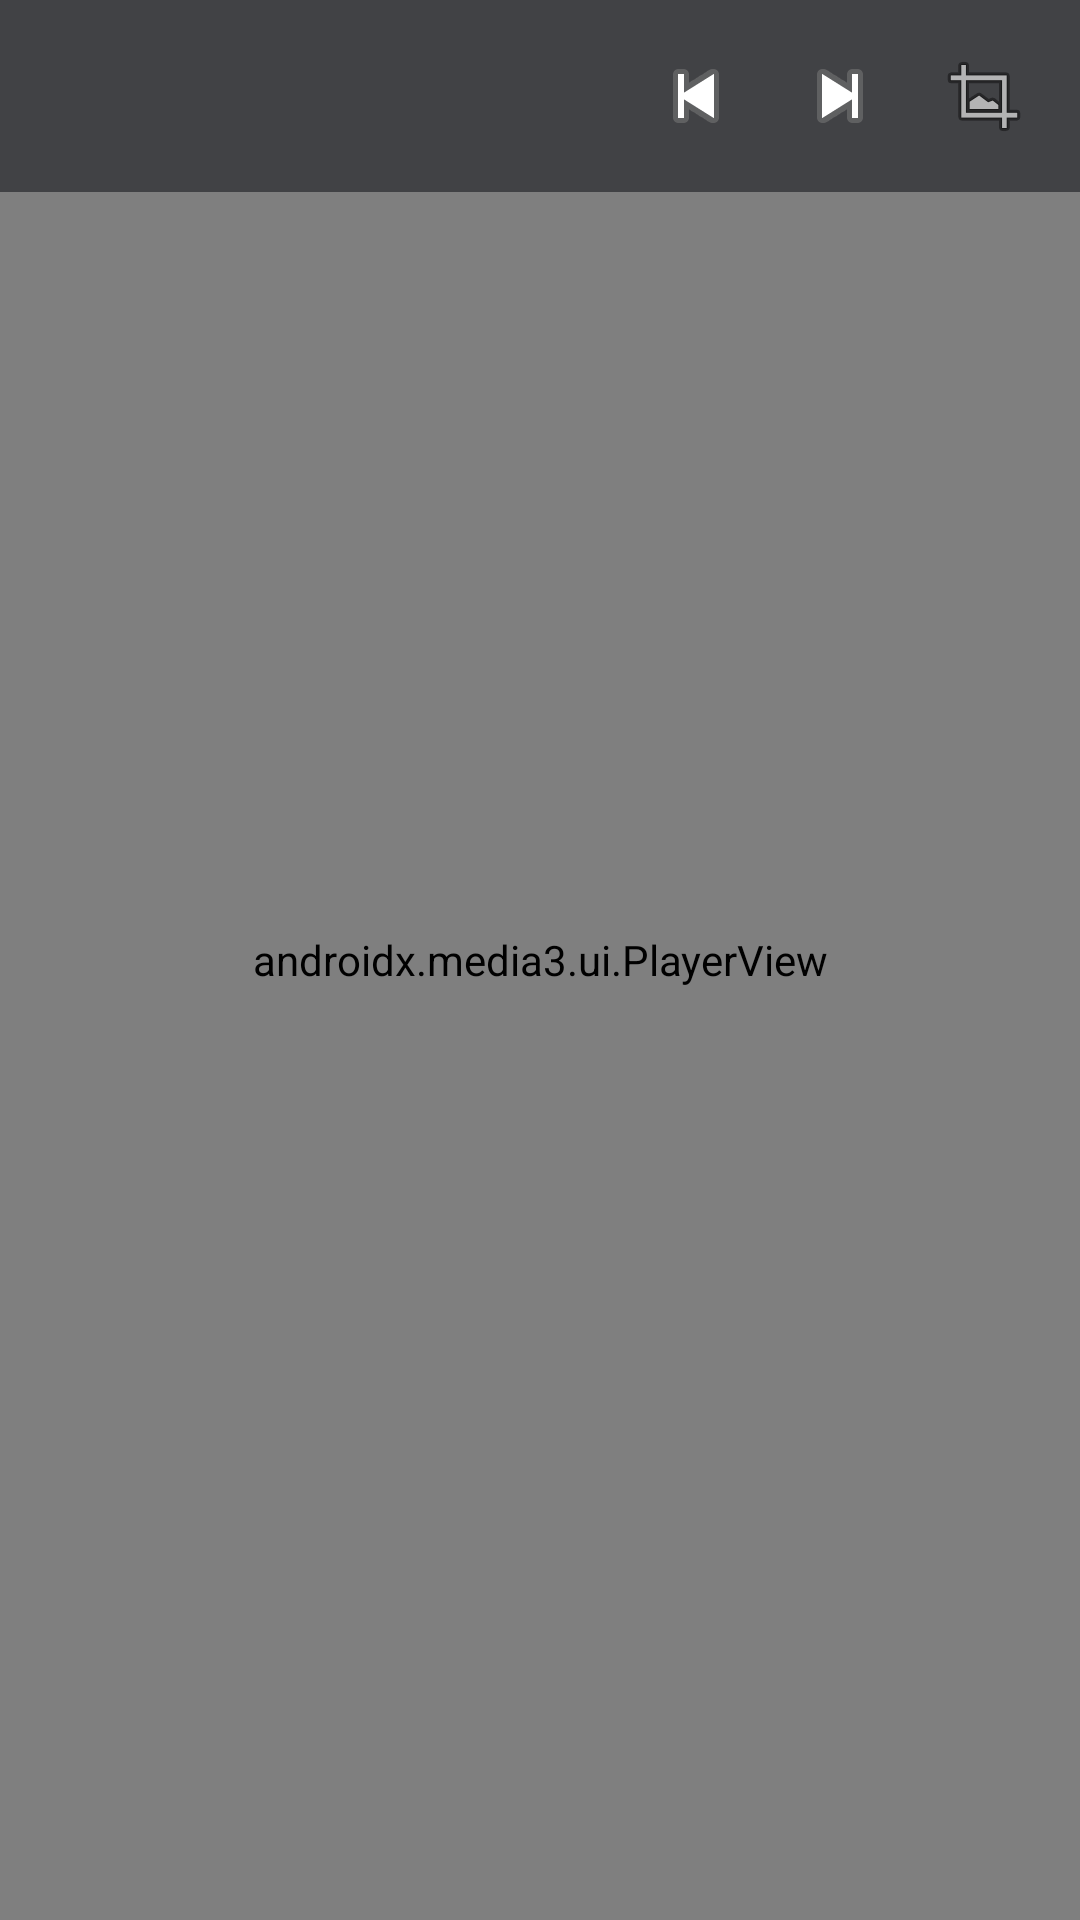

Named icons in this screenshot (1080x1920) and their centers, (x=x, y=y):
Next channel: (x=840, y=96)
Previous channel: (x=696, y=96)
Resize video: (x=984, y=96)
